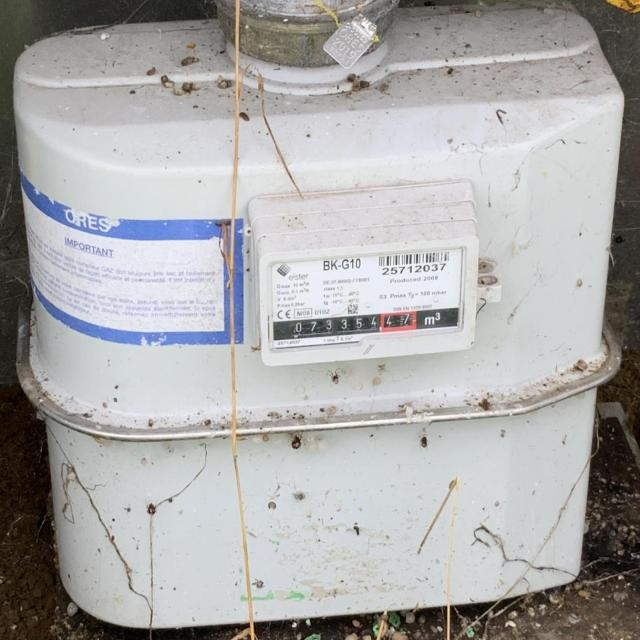gaz_meter: (269, 248, 465, 349)
indication: (275, 310, 420, 341)
